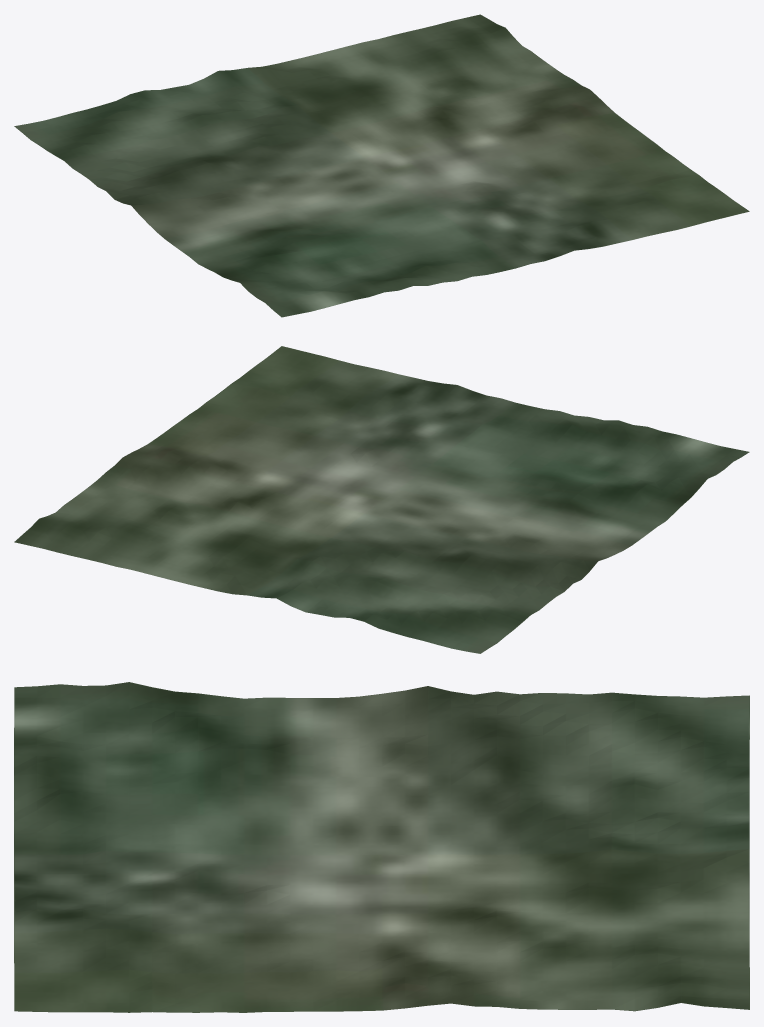
The picture shows the model from 3 angles, top to bottom: view 1: azimuth 30°, elevation 25°; view 2: azimuth 150°, elevation 25°; view 3: azimuth 270°, elevation 25°; orthographic projection. The views are drawn at different scales.
Bounding box in the file's own units: 31230 × 894 × 31054.
Materials: 1 (1 with a texture image).
